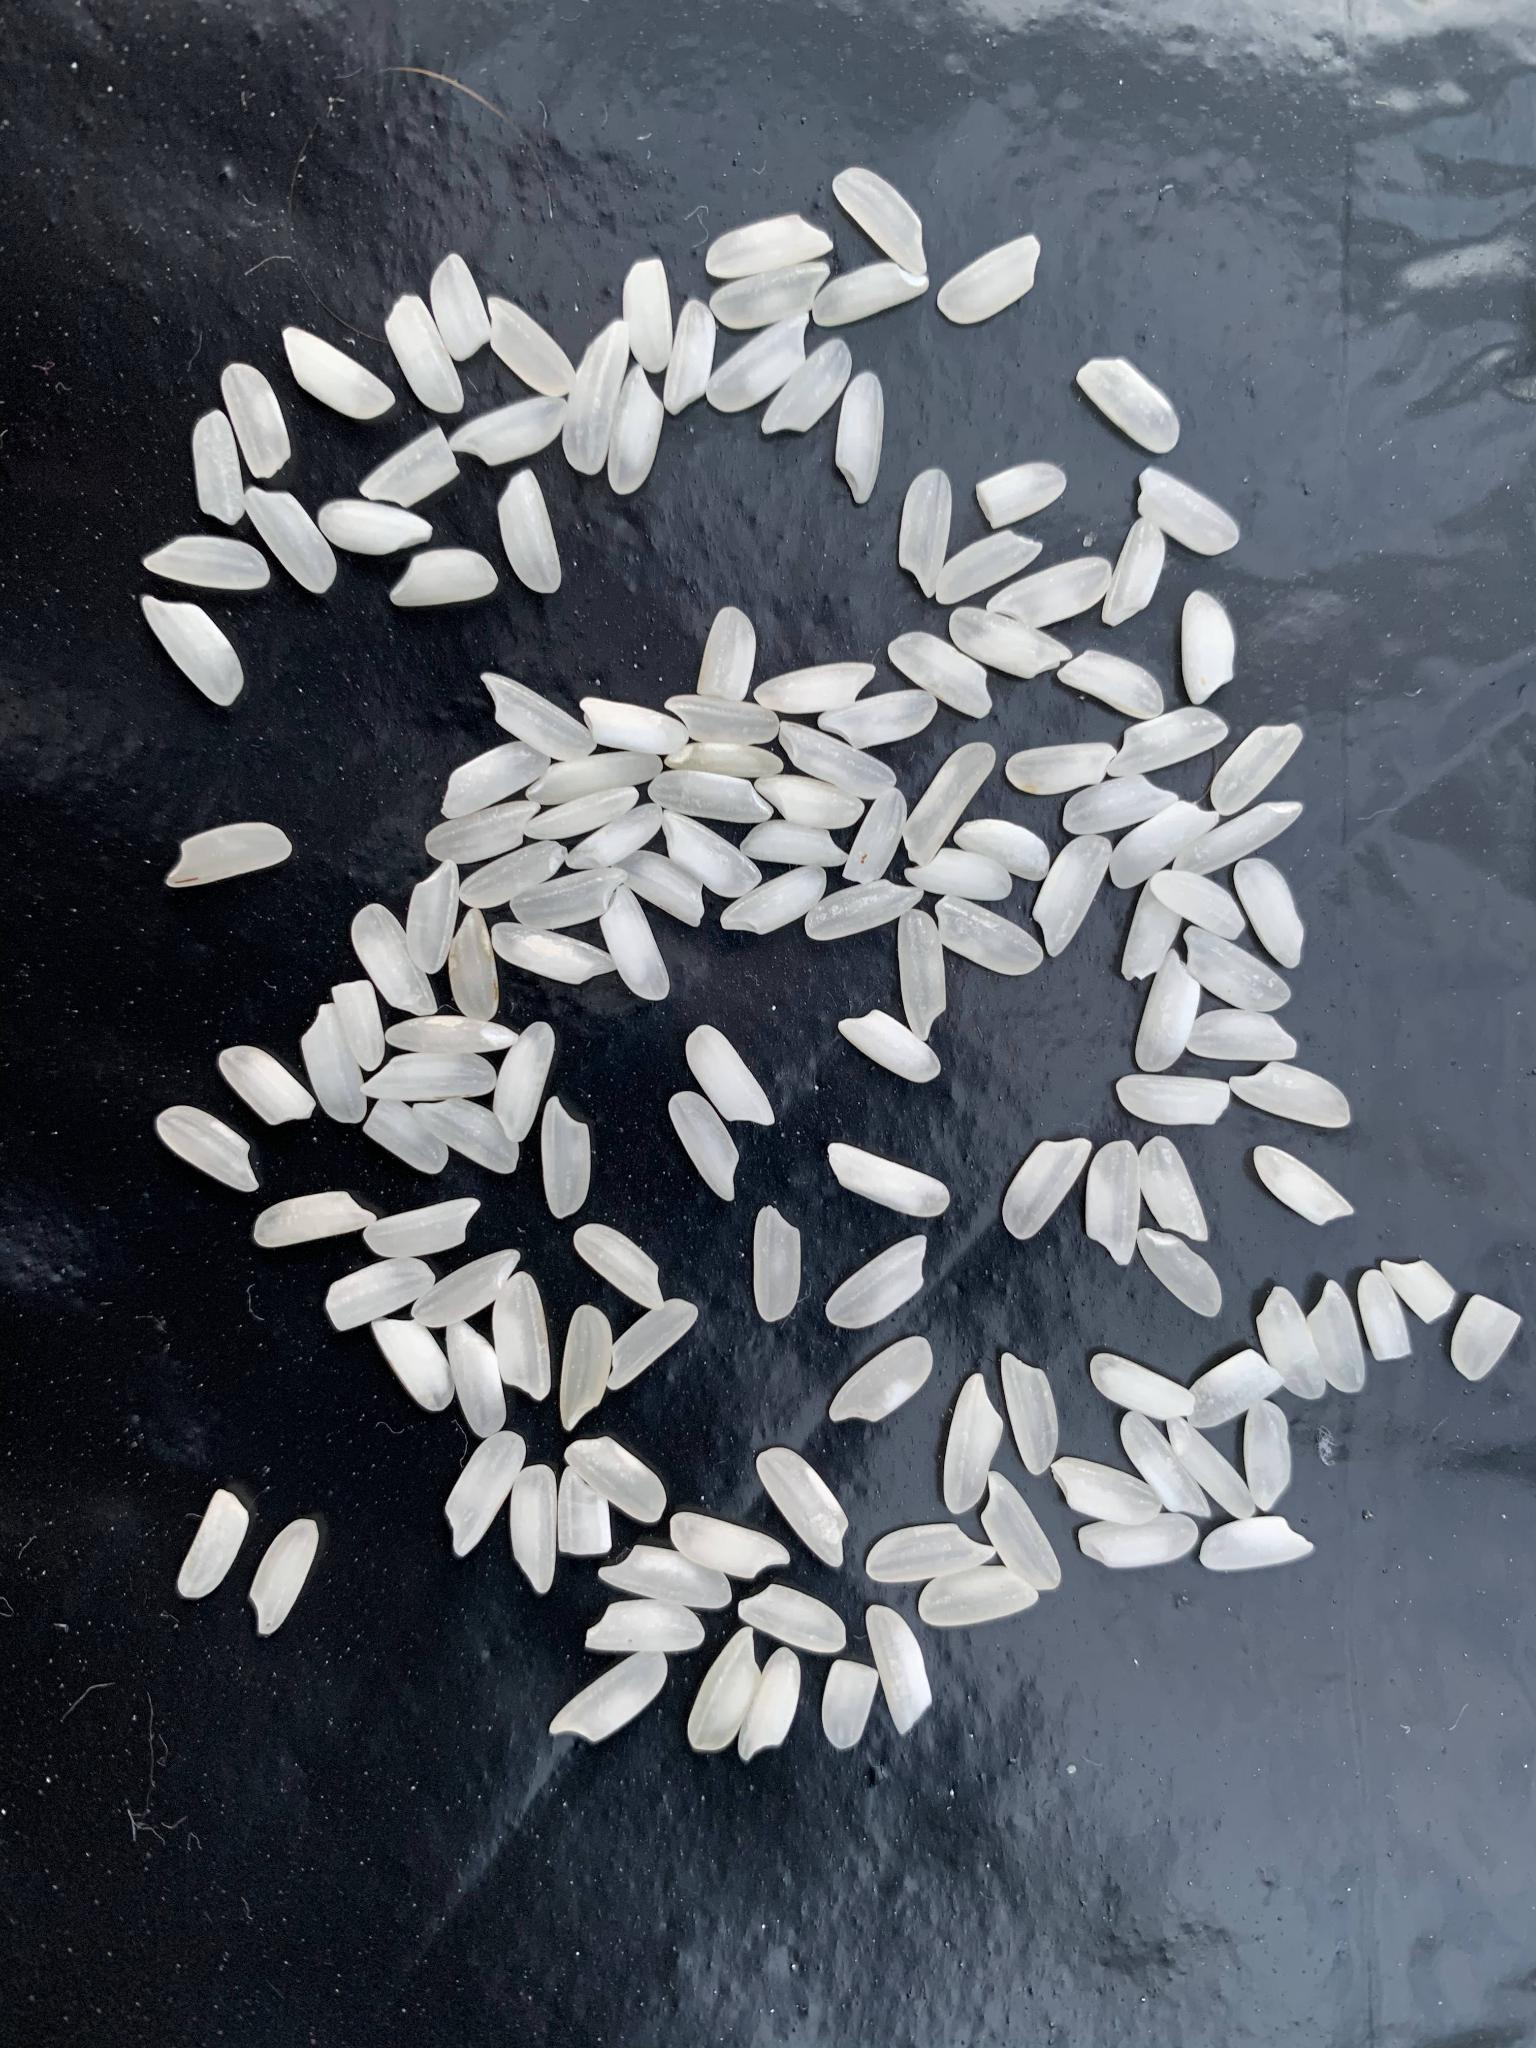rice: (142, 593, 245, 706), (904, 742, 995, 866), (707, 313, 812, 416), (758, 1447, 847, 1567), (550, 1651, 668, 1742), (561, 321, 631, 474), (282, 326, 395, 419), (445, 1430, 528, 1558), (834, 166, 928, 276), (1170, 801, 1304, 876), (1120, 1411, 1212, 1517), (1110, 801, 1221, 889), (352, 905, 437, 1018), (1034, 834, 1113, 955), (1078, 360, 1179, 453), (778, 719, 895, 800), (245, 489, 336, 593), (983, 1471, 1062, 1590), (481, 674, 595, 756), (826, 1235, 928, 1327), (829, 1334, 933, 1424), (686, 1022, 774, 1127), (1167, 1414, 1254, 1521), (1184, 926, 1292, 1011), (950, 606, 1075, 681), (937, 235, 1039, 326), (829, 1143, 950, 1219), (561, 1435, 666, 1522), (490, 297, 579, 398), (987, 556, 1112, 629), (1002, 1138, 1091, 1240), (157, 1105, 260, 1192), (887, 632, 992, 718), (386, 293, 461, 411), (762, 339, 854, 435), (689, 1629, 762, 1751), (662, 808, 762, 897), (1141, 466, 1239, 555), (936, 895, 1044, 976), (411, 1250, 521, 1329), (599, 1543, 733, 1608), (710, 261, 831, 332), (1107, 706, 1228, 777), (165, 822, 294, 889), (707, 213, 836, 279), (866, 1605, 933, 1734), (450, 397, 570, 468), (444, 742, 552, 819), (1233, 856, 1305, 971), (1212, 722, 1302, 814), (600, 885, 671, 1001), (1134, 948, 1200, 1072), (250, 1517, 318, 1638), (221, 363, 290, 481), (1255, 1285, 1326, 1400), (490, 921, 616, 985), (668, 1513, 791, 1579), (936, 529, 1042, 605), (360, 426, 460, 506), (1254, 1147, 1354, 1227), (944, 1376, 1002, 1514), (608, 1300, 699, 1388), (574, 1222, 666, 1309), (866, 1522, 997, 1584), (369, 1317, 455, 1411), (177, 1488, 248, 1600), (499, 469, 561, 593), (1187, 1350, 1286, 1429), (737, 1584, 849, 1653), (1052, 1456, 1163, 1526), (1231, 1063, 1350, 1127), (302, 1003, 366, 1122), (607, 361, 665, 493), (219, 1045, 315, 1126), (1058, 648, 1167, 719), (328, 1259, 436, 1330), (837, 1008, 941, 1082), (494, 1021, 557, 1142), (528, 751, 663, 806), (816, 690, 937, 751), (671, 1092, 737, 1203), (458, 840, 566, 908), (813, 264, 929, 327), (494, 1272, 550, 1401), (361, 1197, 482, 1256), (611, 851, 707, 927), (720, 866, 826, 934), (1137, 1229, 1221, 1314), (142, 535, 273, 590), (1062, 774, 1181, 834), (920, 1566, 1039, 1625), (805, 880, 925, 940), (511, 868, 628, 929), (1091, 1353, 1196, 1421), (1137, 1135, 1205, 1240), (445, 1321, 505, 1438), (737, 1646, 799, 1761), (1002, 1353, 1058, 1477), (1121, 871, 1184, 982), (1100, 518, 1165, 626), (424, 803, 541, 863), (899, 468, 950, 598), (1078, 1513, 1197, 1569), (1305, 1280, 1365, 1393), (1150, 871, 1247, 940), (649, 771, 774, 824), (1199, 1514, 1317, 1571), (255, 1192, 376, 1247), (365, 1098, 450, 1176), (834, 373, 884, 505), (899, 911, 949, 1043), (1086, 1140, 1137, 1268), (431, 255, 492, 361), (565, 803, 663, 869), (842, 789, 908, 885), (560, 1305, 610, 1432), (190, 410, 245, 526), (318, 500, 432, 555), (360, 1055, 499, 1100), (390, 548, 497, 606), (663, 300, 716, 416), (1450, 1295, 1521, 1382), (524, 789, 641, 842), (579, 698, 691, 753), (542, 1095, 591, 1221), (753, 663, 874, 713), (1004, 743, 1117, 797), (1181, 1009, 1297, 1061), (586, 1601, 705, 1651), (905, 848, 1016, 901), (408, 860, 460, 974), (511, 1464, 557, 1595), (957, 819, 1050, 882), (695, 606, 757, 701), (752, 1206, 802, 1322), (449, 910, 500, 1021), (1183, 590, 1233, 705), (1115, 1076, 1229, 1126), (978, 464, 1066, 529), (624, 260, 673, 376), (668, 695, 779, 743), (741, 819, 850, 868), (821, 1661, 878, 1750), (1247, 1400, 1291, 1514), (1379, 1259, 1454, 1326), (386, 1016, 518, 1053), (332, 980, 386, 1071), (1362, 1269, 1412, 1363), (558, 1471, 610, 1555), (665, 742, 783, 777)
